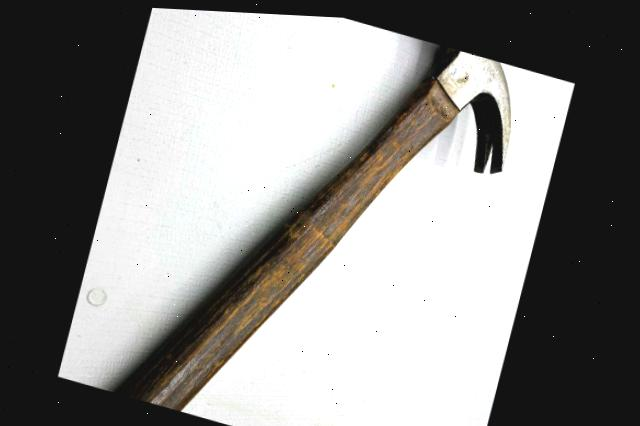hammer: (80, 4, 534, 426)
